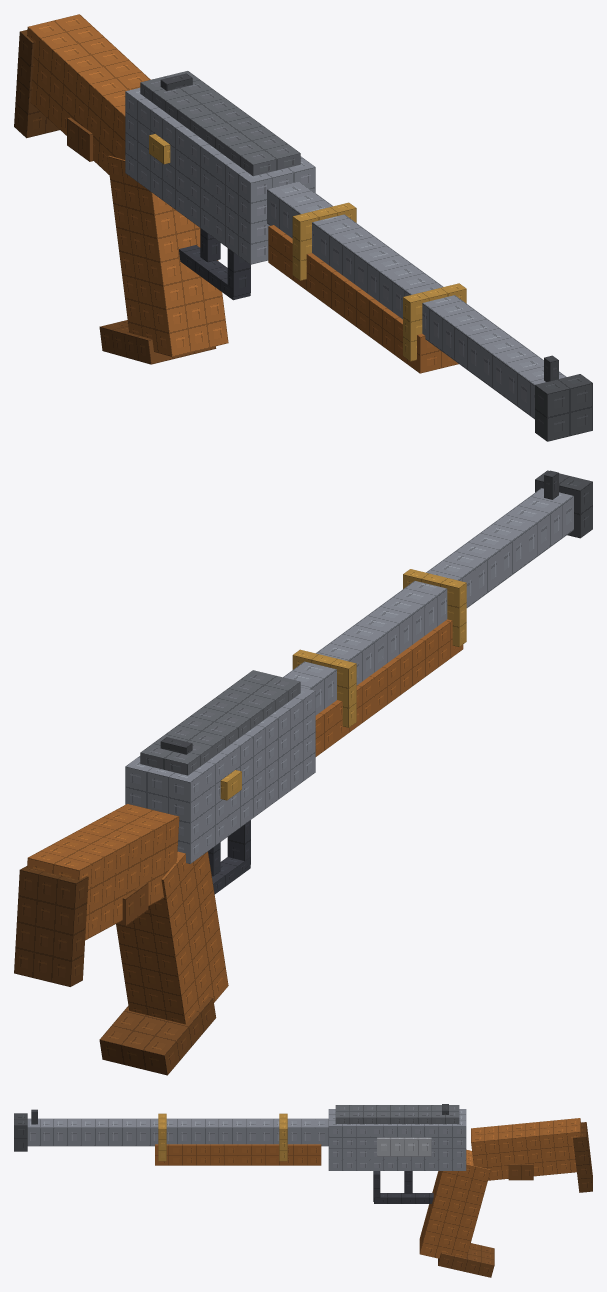
The picture shows the model from 3 angles, top to bottom: view 1: azimuth 30°, elevation 25°; view 2: azimuth 150°, elevation 25°; view 3: azimuth 270°, elevation 25°; orthographic projection. The views are drawn at different scales.
Visible parts, largest first — view 1: W09; view 2: W09; view 3: W09.
Boxes of the visible parts, x1=… form: W09: x1=14, y1=14, x2=592, y2=441; W09: x1=14, y1=470, x2=592, y2=1075; W09: x1=14, y1=1104, x2=592, y2=1277.
Bounding box in the file's own units: 0.36 × 1.3 × 4.21.
Materials: 1 (1 with a texture image).
